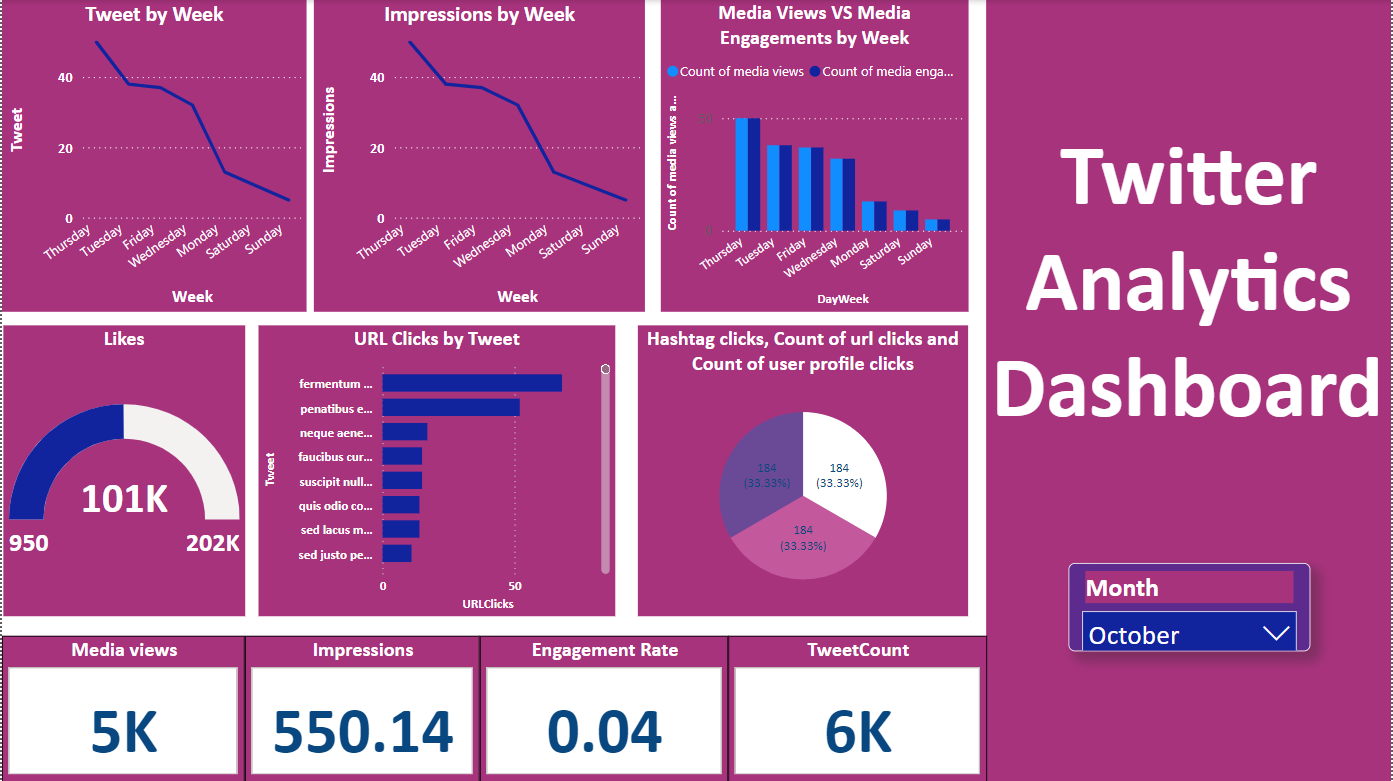

The dashboard page shown, as its layout file describes it:
{"tool":"powerbi","page":{"name":"Page 1","canvas":[1280,720],"ordinal":0},"visuals":[{"type":"textbox","box":[907.2,0,373.2,720.6],"z":0},{"type":"cardVisual","title":"Media views","fields":{"Data":["Sum(SocialMedia.media views)"]},"box":[0,586.4,224,134.6],"z":1000},{"type":"cardVisual","title":"Impressions","fields":{"Data":["Avg(SocialMedia.impressions)"]},"box":[224,586.4,216.2,134.6],"z":2000},{"type":"cardVisual","title":"Engagement Rate","fields":{"Data":["Avg(SocialMedia.engagement rate)"]},"box":[440.2,586.4,229.1,134.6],"z":3000},{"type":"cardVisual","title":"TweetCount","fields":{"Data":["Sum(SocialMedia.engagements)"]},"box":[669.5,586.1,221.5,134.4],"z":4000},{"type":"gauge","title":"Likes","fields":{"Y":["Sum(SocialMedia.impressions)"],"MinValue":["Sum(SocialMedia.likes)"]},"box":[1.3,300.3,222.7,268],"z":4001},{"type":"slicer","fields":{"Values":["SocialMedia.MonthName"]},"box":[982.9,518.6,222.9,81.4],"z":4002},{"type":"lineChart","title":"Tweet by Week","fields":{"Category":["SocialMedia.DayWeek"],"Y":["CountNonNull(SocialMedia.Tweet)"]},"box":[0,0,280.9,287.4],"z":4003},{"type":"lineChart","title":"Impressions by Week","fields":{"Category":["SocialMedia.DayWeek"],"Y":["CountNonNull(SocialMedia.impressions)"]},"box":[287.4,0,305.5,287.4],"z":4004},{"type":"clusteredBarChart","title":"URL Clicks by Tweet","fields":{"Category":["SocialMedia.Tweet"],"Y":["Sum(SocialMedia.url clicks)"]},"box":[236.9,300.3,328.8,268],"z":4005},{"type":"pieChart","title":"Hashtag clicks, Count of url clicks and Count of user profile clicks","fields":{"Y":["CountNonNull(SocialMedia.hashtag clicks)","CountNonNull(SocialMedia.url clicks)","CountNonNull(SocialMedia.user profile clicks)"]},"box":[576.2,299.9,314.8,268.8],"z":4006},{"type":"clusteredColumnChart","title":"Media Views VS Media Engagements by Week","fields":{"Category":["SocialMedia.DayWeek"],"Y":["CountNonNull(SocialMedia.media views)","CountNonNull(SocialMedia.media engagements)"]},"box":[607.2,0,283.5,287.4],"z":4007}]}

Visuals, with their boxes in screenshot pixels (x1, y1, x2, y2), scaled from the page's 1280x720 canvas onto the 1393x781 screenshot:
textbox: 987,0,1392,780
"Media views" cardVisual: 0,636,244,780
"Impressions" cardVisual: 244,636,479,780
"Engagement Rate" cardVisual: 479,636,728,780
"TweetCount" cardVisual: 729,636,970,780
"Likes" gauge: 1,326,244,616
slicer - SocialMedia.MonthName: 1070,563,1312,651
"Tweet by Week" lineChart: 0,0,306,312
"Impressions by Week" lineChart: 313,0,645,312
"URL Clicks by Tweet" clusteredBarChart: 258,326,616,616
"Hashtag clicks, Count of url clicks and Count of user profile clicks" pieChart: 627,325,970,617
"Media Views VS Media Engagements by Week" clusteredColumnChart: 661,0,969,312
